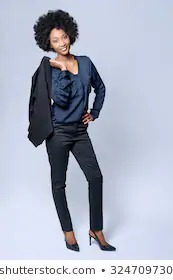S_W_pants: (43, 119, 108, 233)
